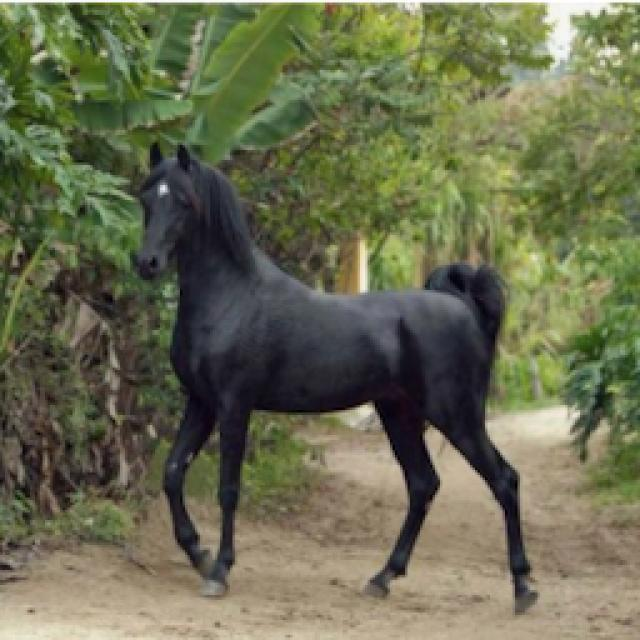Horse: (122, 132, 548, 618)
